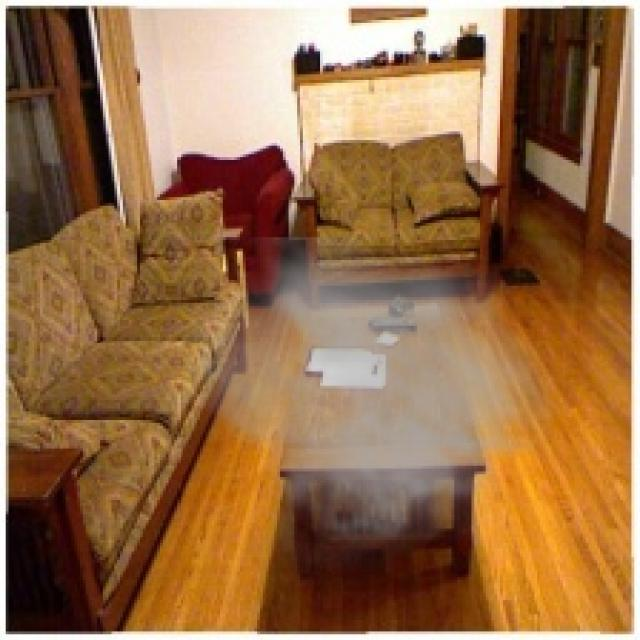Smoke: (177, 237, 574, 580)
